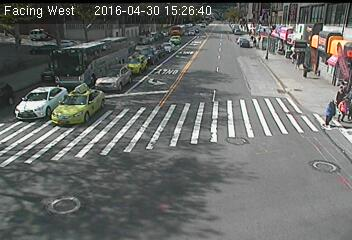neg: (96, 52, 120, 84), (86, 105, 110, 137), (203, 157, 223, 183), (119, 154, 138, 180), (192, 115, 211, 139), (142, 71, 160, 95), (138, 106, 156, 130), (65, 145, 83, 168), (185, 72, 200, 93), (236, 56, 251, 76), (234, 119, 249, 138), (139, 33, 153, 52), (206, 44, 217, 58)
pos: (314, 96, 339, 129), (331, 98, 351, 127), (333, 84, 344, 98)
